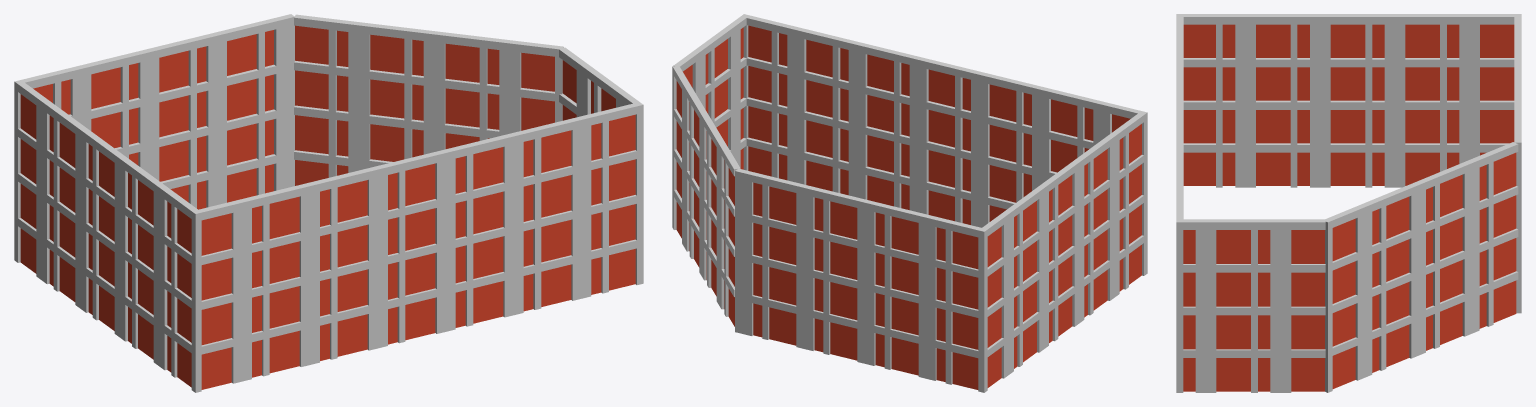
The model's file is sample-facade-3d.gltf.
3 renders of one model, left to right at view 1: azimuth 30°, elevation 25°; view 2: azimuth 150°, elevation 25°; view 3: azimuth 270°, elevation 25°, orthographic. The views are drawn at different scales.
Size of the model in its own units: 35.64 by 13.6 by 24.96.
